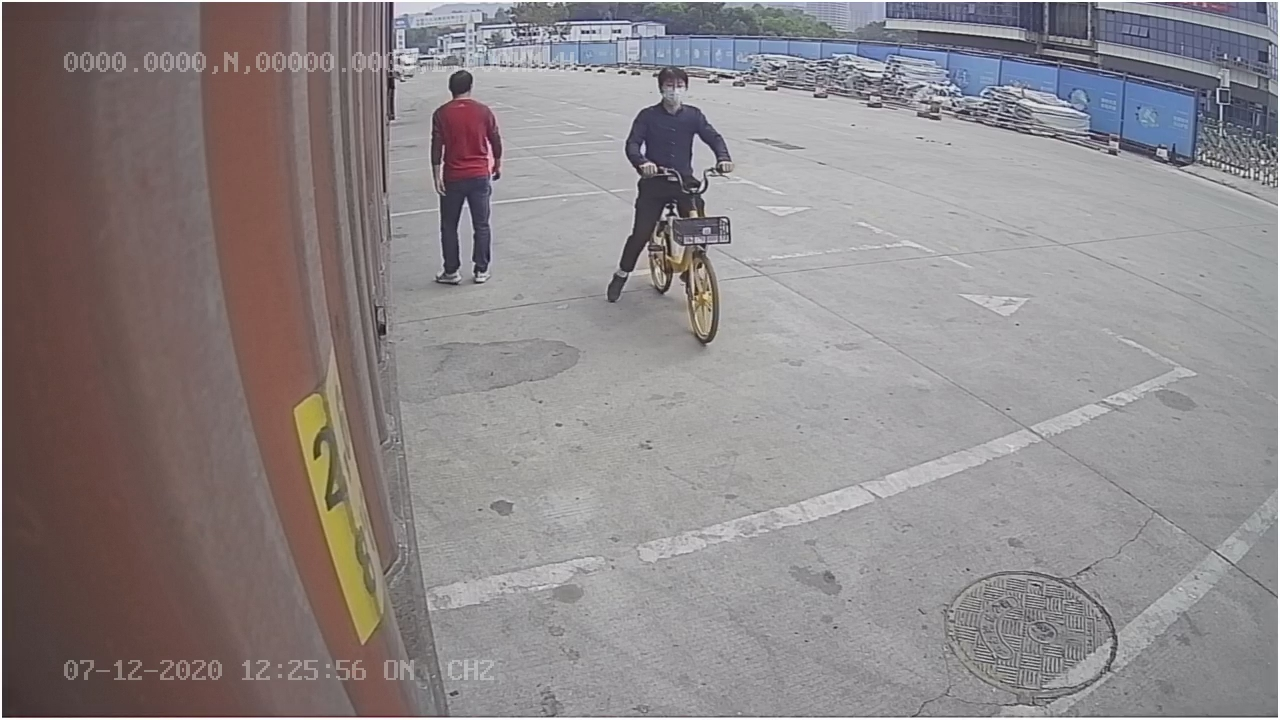person: (425, 67, 507, 293)
